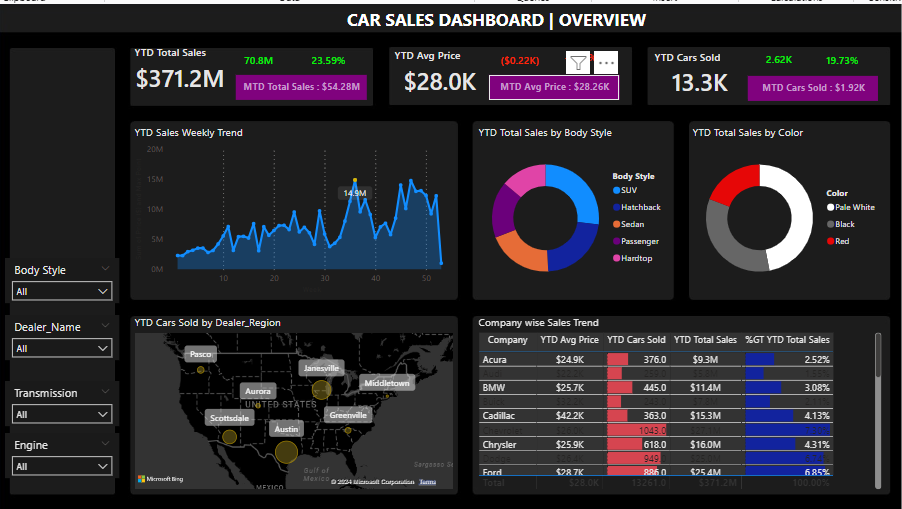

The dashboard page shown, as its layout file describes it:
{"tool":"powerbi","page":{"name":"Overiew","canvas":[1280,720],"ordinal":0},"visuals":[{"type":"card","title":"YTD Total Sales","fields":{"Values":["car_data.YTD Total Sales"]},"box":[188.1,58.8,137.7,73],"z":0},{"type":"card","fields":{"Values":["car_data.Sales Difference"]},"box":[325.9,62.2,87.3,38.6],"z":1000},{"type":"card","fields":{"Values":["car_data.YOY Sales Growth"]},"box":[413.2,62.2,109.2,38.6],"z":2000},{"type":"card","fields":{"Values":["car_data.MTD KPI"]},"box":[337.6,100.8,184.8,35],"z":3000},{"type":"card","title":"YTD Avg Price","fields":{"Values":["car_data.YTD Avg Price"]},"box":[557.7,62.2,137.7,73.9],"z":4000},{"type":"card","fields":{"Values":["car_data.Avg Price Diff"]},"box":[695.4,62.2,87.3,38.6],"z":5000},{"type":"card","fields":{"Values":["car_data.YOY Avg Price Growth"]},"box":[782.8,58.8,87.3,38.6],"z":6000},{"type":"card","fields":{"Values":["car_data.MTD Avg Price KPI"]},"box":[695.4,100.8,184.8,35.3],"z":7000},{"type":"card","title":"YTD Cars Sold","fields":{"Values":["car_data.YTD Cars Sold"]},"box":[925.5,65.2,137.5,72.3],"z":8000},{"type":"card","fields":{"Values":["car_data.Cars Sold Diff"]},"box":[1063,60.9,87.9,38.3],"z":9000},{"type":"card","fields":{"Values":["car_data.YOY Car Sold Growth"]},"box":[1153.7,62.4,86.5,38.3],"z":10000},{"type":"card","fields":{"Values":["car_data.MTD Cars Sold KPI"]},"box":[1063,102,184.3,35.4],"z":11000},{"type":"areaChart","title":"YTD Sales Weekly Trend","fields":{"Category":["Calender Table.Week"],"Y":["Sum(car_data.Price ($))","car_data.Max Point"]},"box":[188.1,171.3,461.9,243.6],"z":12000},{"type":"donutChart","fields":{"Category":["car_data.Body Style"],"Y":["car_data.YTD Total Sales"]},"box":[676.1,171.5,277.8,243.8],"z":13000},{"type":"donutChart","fields":{"Y":["car_data.YTD Total Sales"],"Category":["car_data.Color"]},"box":[979.4,171.5,277.8,243.8],"z":14000},{"type":"map","fields":{"Category":["car_data.Dealer_Region"],"Size":["car_data.YTD Cars Sold"]},"box":[188.5,440.8,462,252.3],"z":15000},{"type":"tableEx","title":"Company wise Sales Trend","fields":{"Values":["car_data.Company","car_data.YTD Avg Price","car_data.YTD Cars Sold","car_data.YTD Total Sales1","car_data.YTD Total Sales"]},"box":[676.1,440.8,581.1,252.3],"z":16000},{"type":"textbox","box":[467.7,0,477.6,55.3],"z":17000},{"type":"slicer","fields":{"Values":["car_data.Body Style"]},"box":[9.9,360,161.6,63.8],"z":18000},{"type":"slicer","fields":{"Values":["car_data.Dealer_Name"]},"box":[9.9,440.8,161.6,63.8],"z":19000},{"type":"slicer","fields":{"Values":["car_data.Transmission"]},"box":[9.9,534.3,161.6,63.8],"z":21000},{"type":"slicer","fields":{"Values":["car_data.Engine"]},"box":[9.9,608,161.6,63.8],"z":21001}]}

Visuals, with their boxes in screenshot pixels (x1, y1, x2, y2), scaled from the page's 1280x720 canvas onto the 902x509 screenshot:
"YTD Total Sales" card: [133,42,230,93]
card - car_data.Sales Difference: [230,44,291,71]
card - car_data.YOY Sales Growth: [291,44,368,71]
card - car_data.MTD KPI: [238,71,368,96]
"YTD Avg Price" card: [393,44,490,96]
card - car_data.Avg Price Diff: [490,44,552,71]
card - car_data.YOY Avg Price Growth: [552,42,613,69]
card - car_data.MTD Avg Price KPI: [490,71,620,96]
"YTD Cars Sold" card: [652,46,749,97]
card - car_data.Cars Sold Diff: [749,43,811,70]
card - car_data.YOY Car Sold Growth: [813,44,874,71]
card - car_data.MTD Cars Sold KPI: [749,72,879,97]
"YTD Sales Weekly Trend" areaChart: [133,121,458,293]
donutChart - car_data.Body Style x car_data.YTD Total Sales: [476,121,672,294]
donutChart - car_data.YTD Total Sales x car_data.Color: [690,121,886,294]
map - car_data.Dealer_Region x car_data.YTD Cars Sold: [133,312,458,490]
"Company wise Sales Trend" tableEx: [476,312,886,490]
textbox: [330,0,666,39]
slicer - car_data.Body Style: [7,255,121,300]
slicer - car_data.Dealer_Name: [7,312,121,357]
slicer - car_data.Transmission: [7,378,121,423]
slicer - car_data.Engine: [7,430,121,475]
